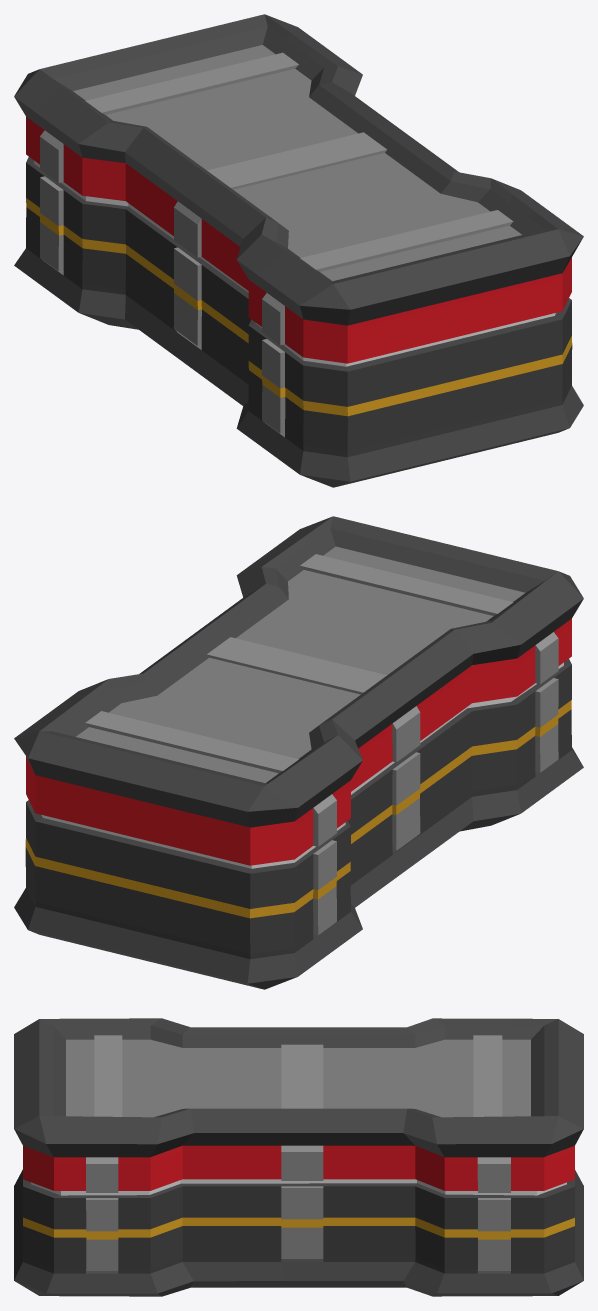
The model's file is Chest.fbx.
3 views of the same model, one above another, from view 1: azimuth 30°, elevation 25°; view 2: azimuth 150°, elevation 25°; view 3: azimuth 270°, elevation 25° (orthographic). The views are drawn at different scales.
Visible parts, largest first — view 1: Cube.002; view 2: Cube.002; view 3: Cube.002.
Boxes of the visible parts, bbox=[...] form: Cube.002: bbox=[14, 14, 583, 487]; Cube.002: bbox=[14, 516, 583, 989]; Cube.002: bbox=[14, 1018, 583, 1296].
Bounding box in the file's own units: 452 × 309 × 887.
